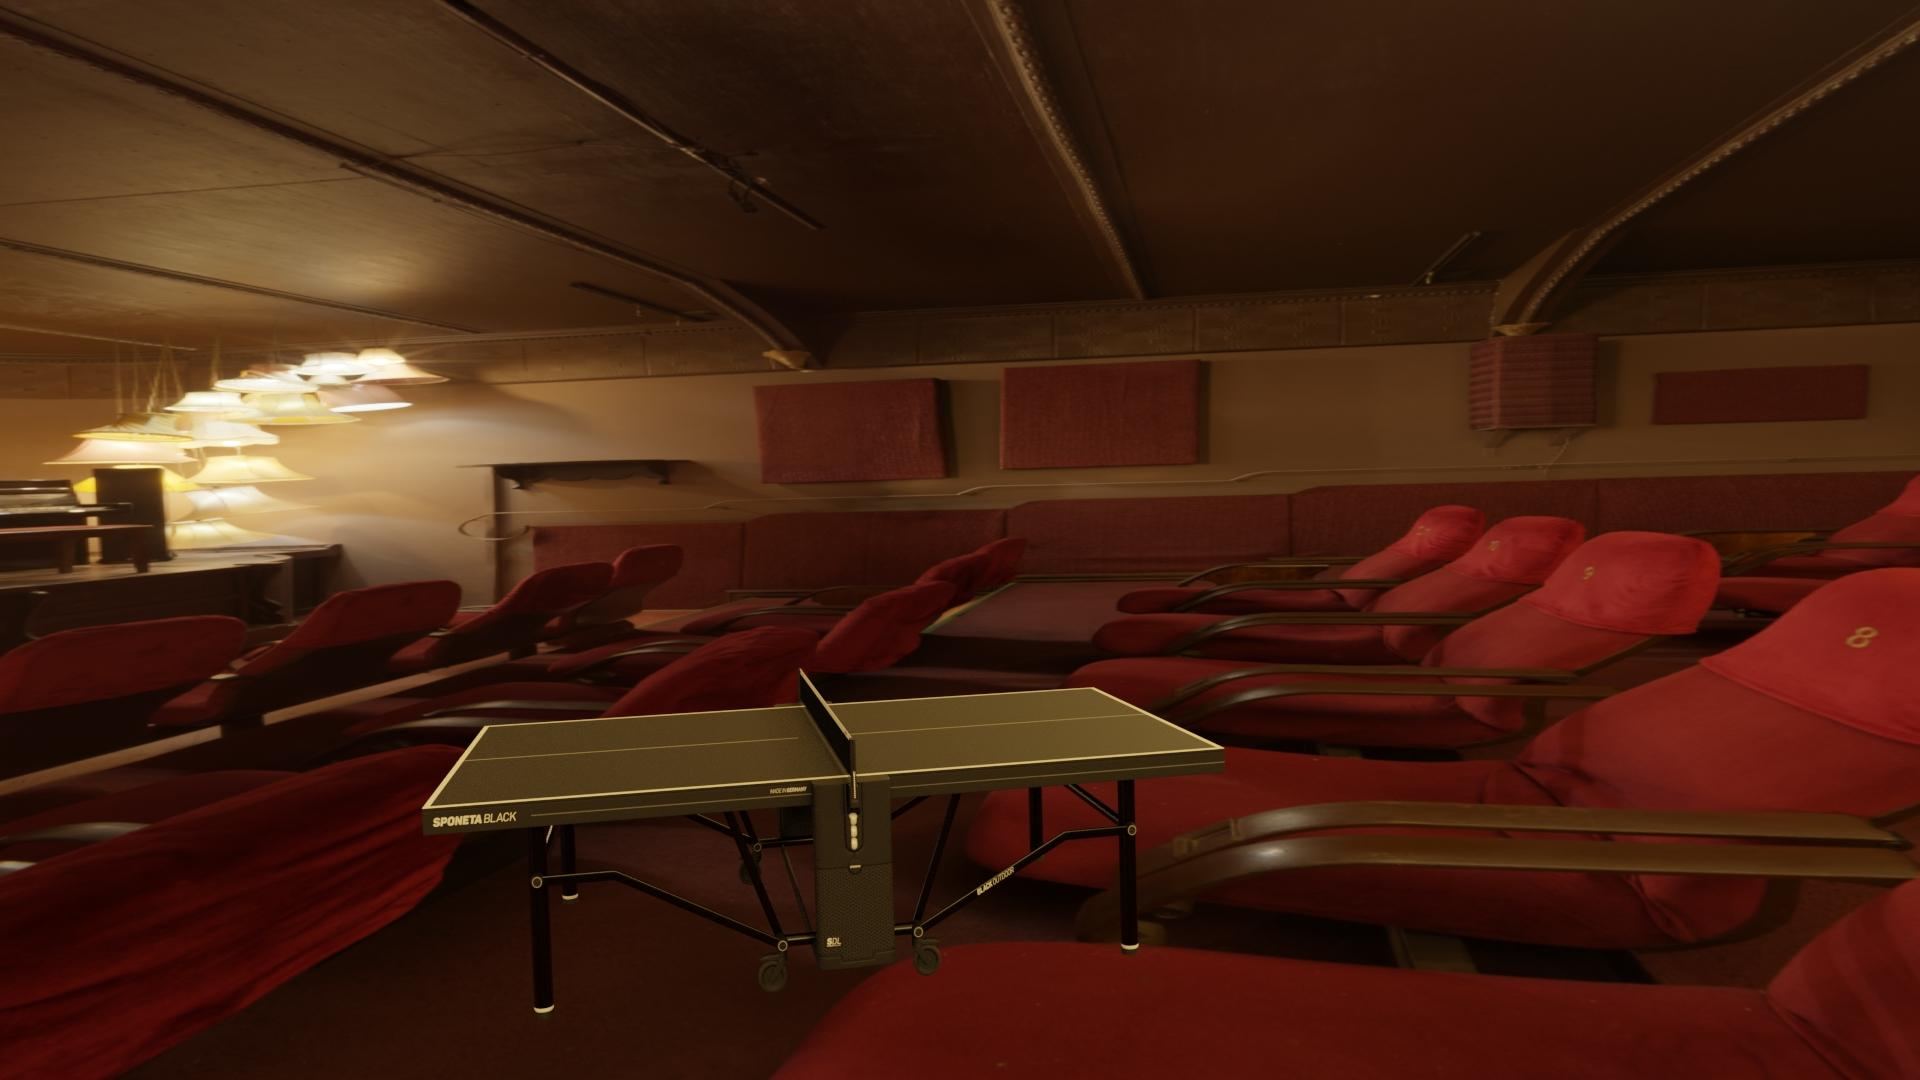table: (430, 688, 1217, 807)
